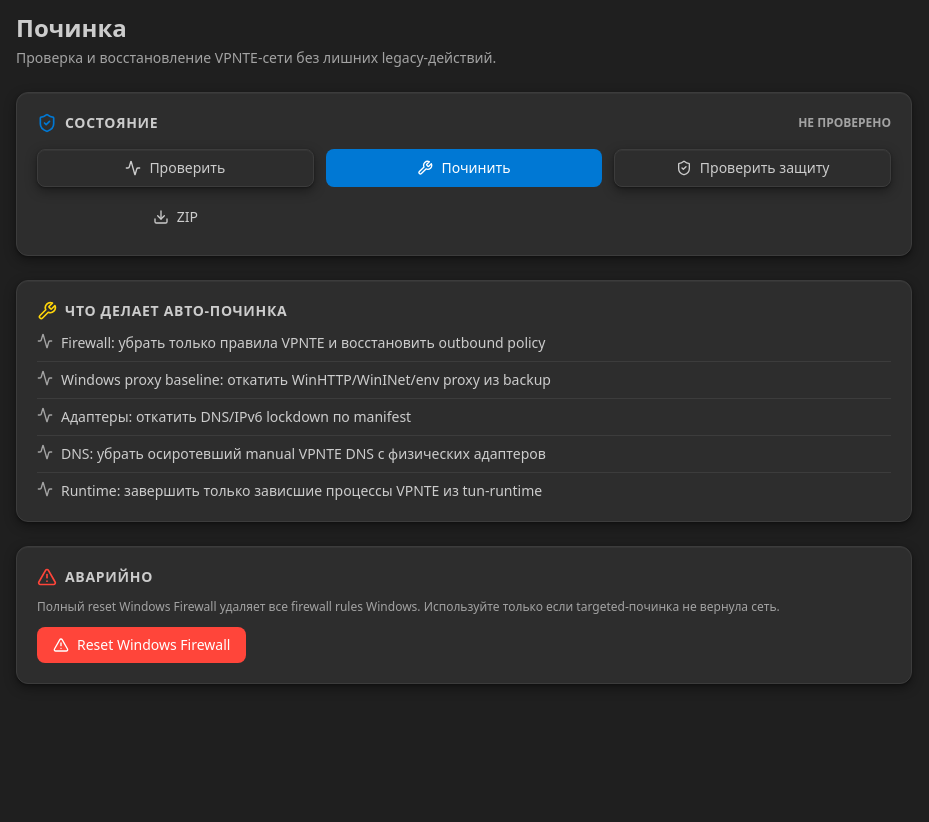
Test: shows honest auto-repair outcome for firewall
The image size is (929, 822).
Click the button "Починить".
click(464, 168)  # box [326,149,602,187]
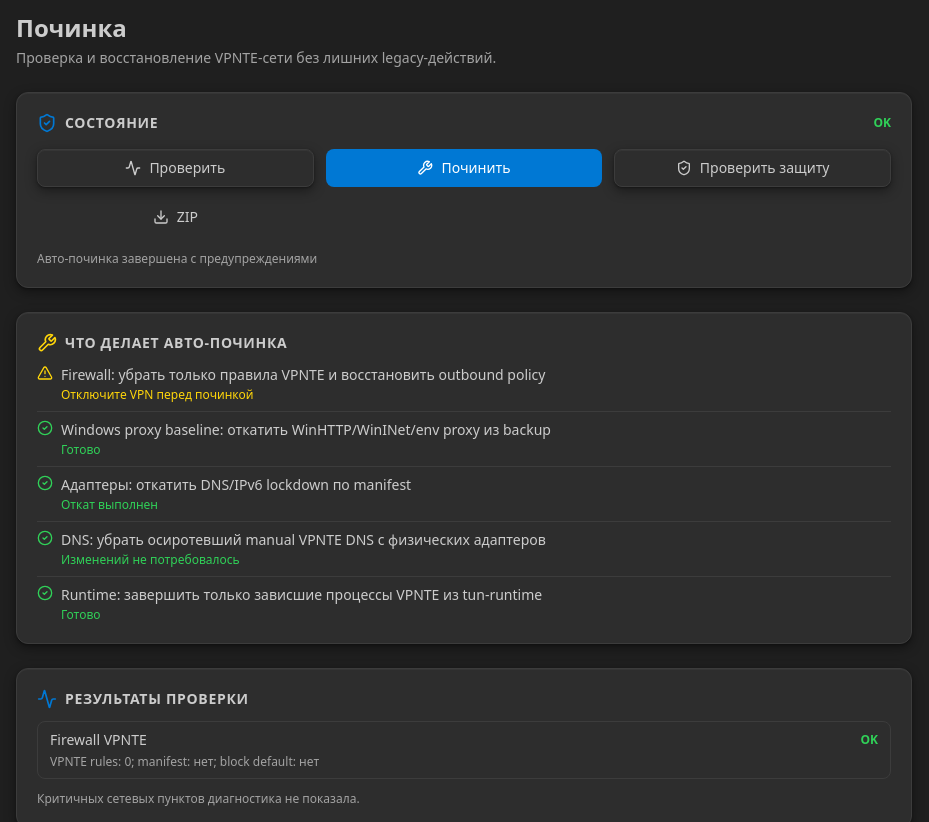
Check: the text "Авто-починка завершена с предупреждениями" is shown, box [37,250,317,267]
